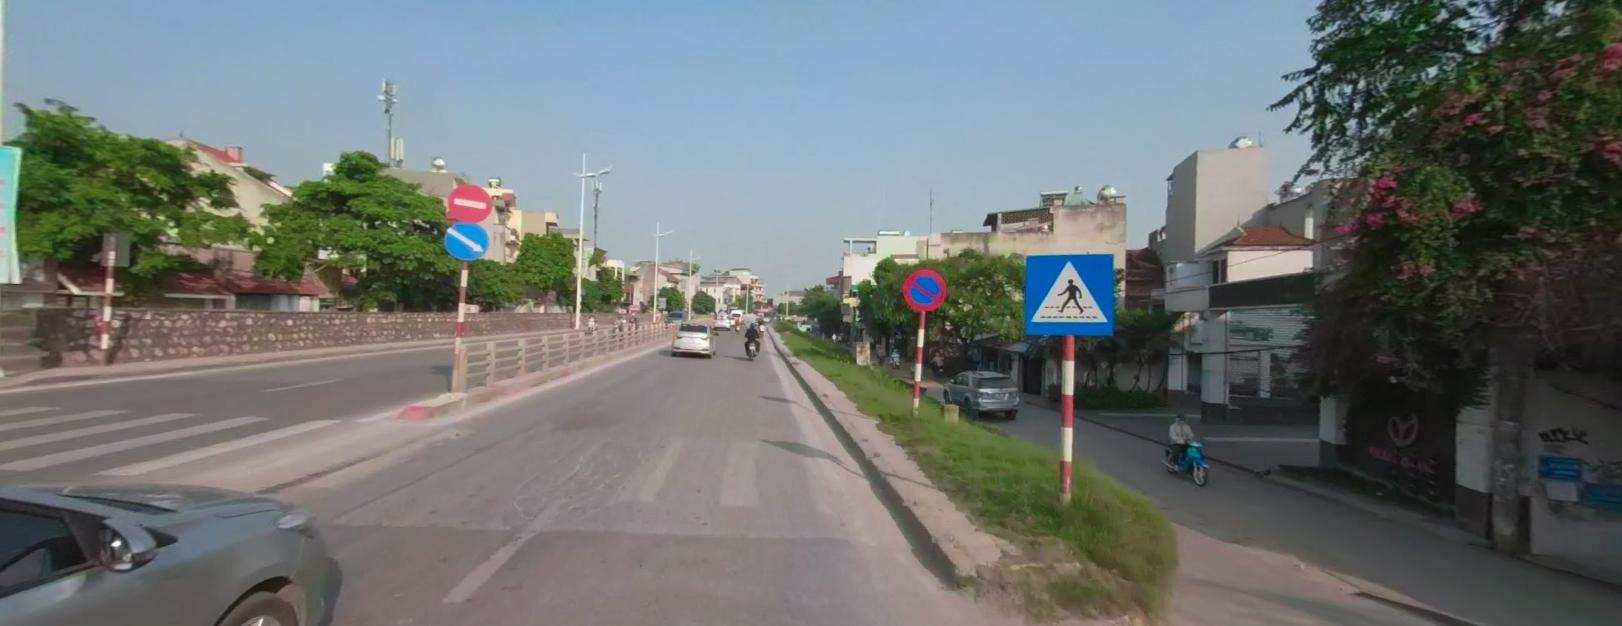Cam dung va do: (901, 266, 947, 310)
Cam nguoc chieu: (447, 181, 493, 220)
Hieu lenh: (442, 218, 489, 259)
